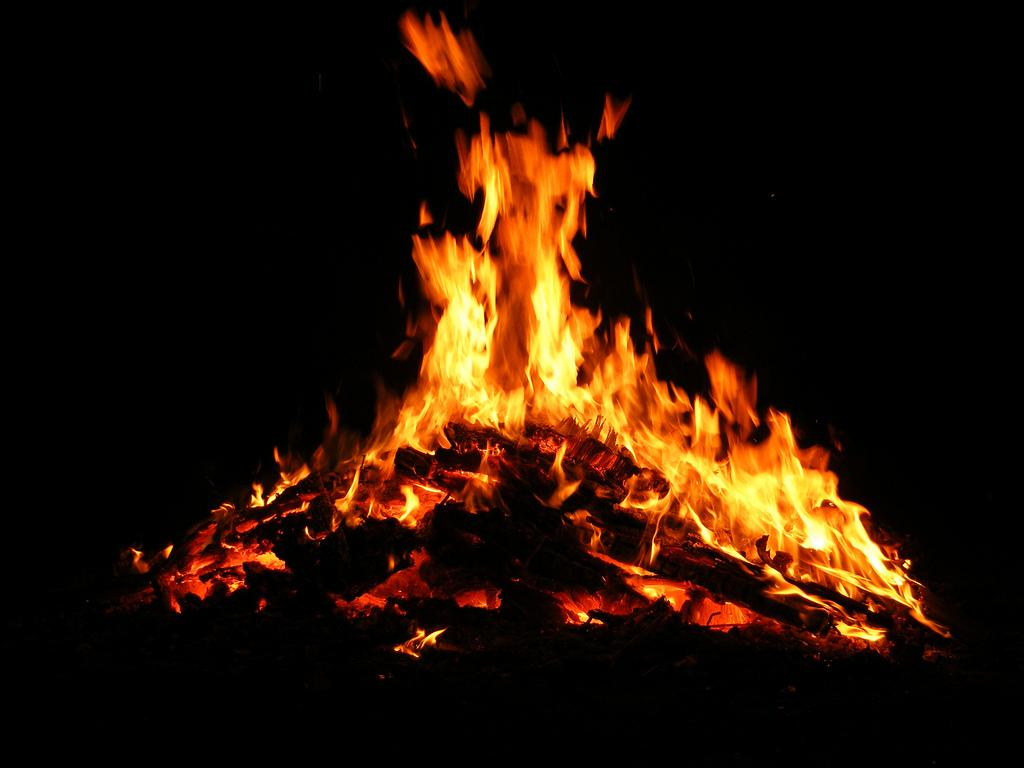fire: (422, 234, 604, 428), (652, 390, 848, 562)
